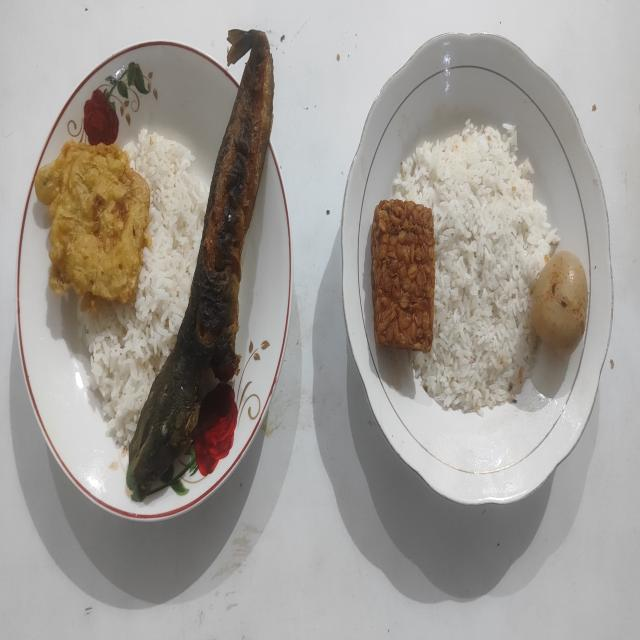nasi_putih: (392, 120, 560, 414), (78, 129, 208, 448)
tempe_goreng: (371, 200, 435, 352)
